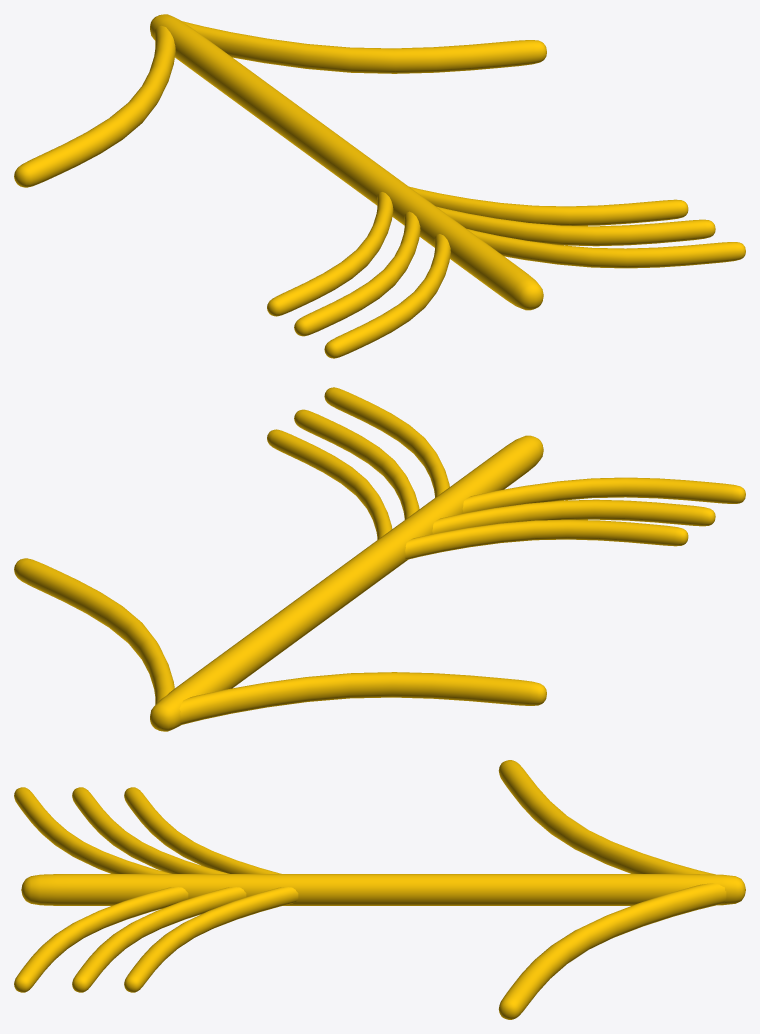
Rendered from ARROW.fbx.
The picture shows the model from 3 angles, top to bottom: view 1: azimuth 30°, elevation 25°; view 2: azimuth 150°, elevation 25°; view 3: azimuth 270°, elevation 25°; orthographic projection. The views are drawn at different scales.
Parts seen in each view (by area): view 1: Cube.170, Cube.167; view 2: Cube.170, Cube.167; view 3: Cube.170, Cube.167.
Part boxes in pixels (x1,y1,x2,y2): Cube.170: (14,21,745,358); Cube.167: (150,14,543,310); Cube.170: (14,387,745,724); Cube.167: (150,435,543,731); Cube.170: (14,760,726,1019); Cube.167: (21,874,745,905).
Bounding box in the file's own units: 4414 × 239 × 5521.
